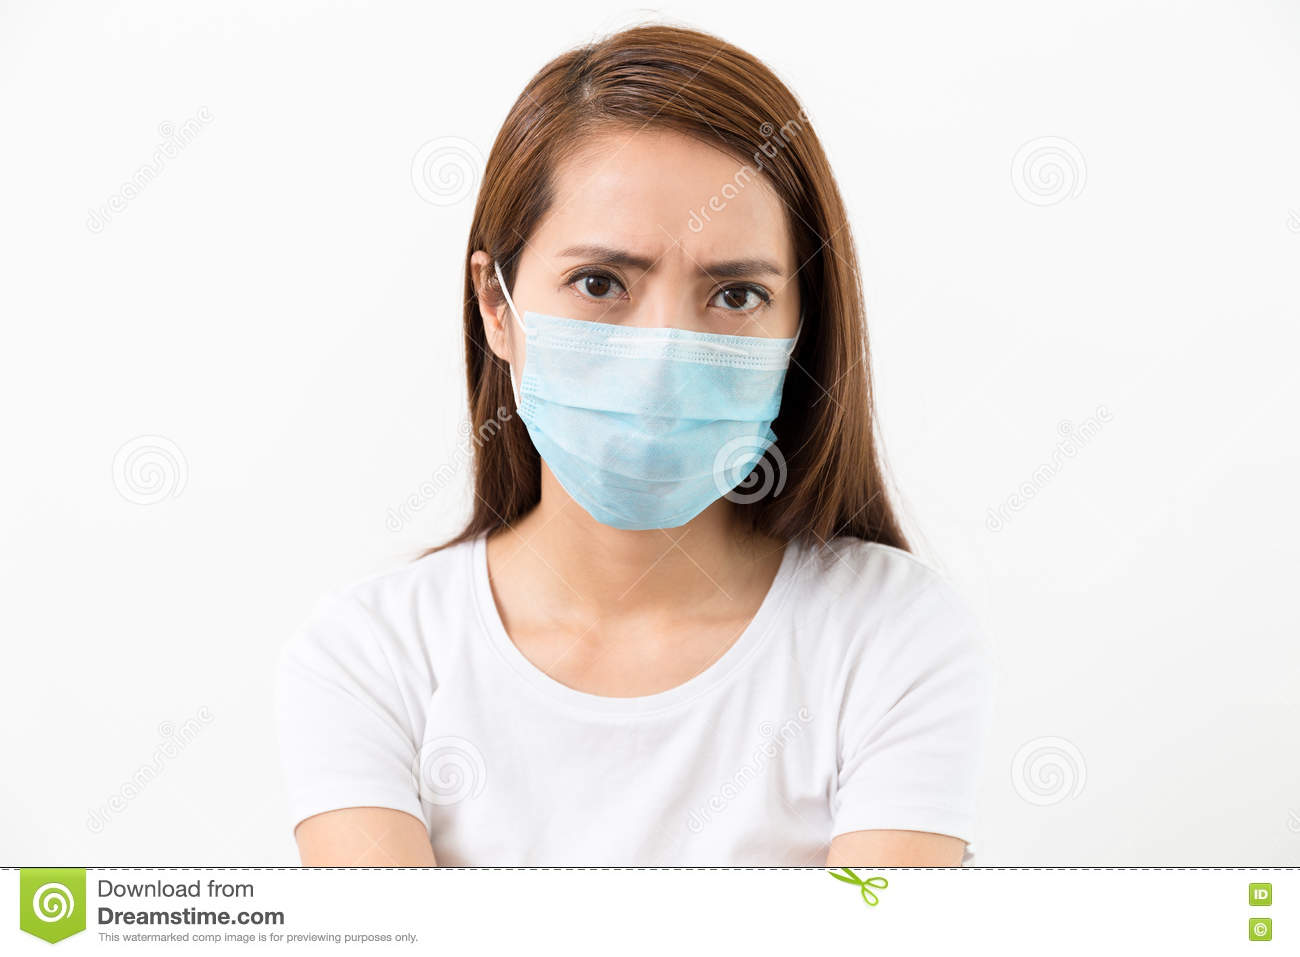mask: (511, 316, 791, 533)
